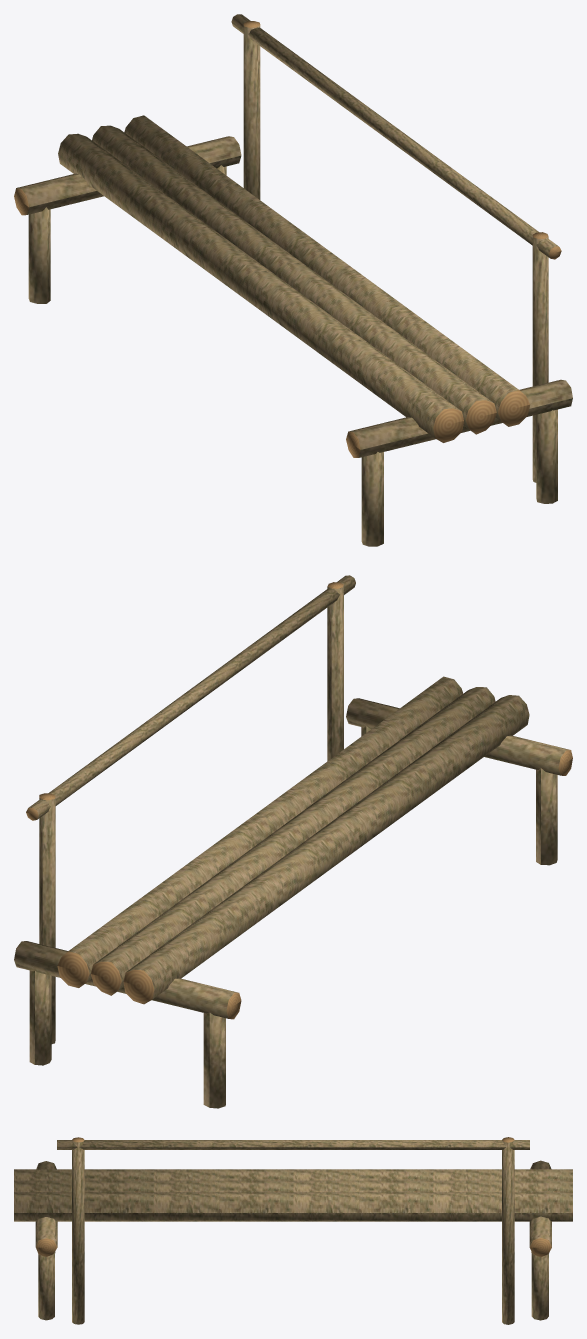
Rendered from road-bridge.glb.
3 renders of one model, top to bottom at view 1: azimuth 30°, elevation 25°; view 2: azimuth 150°, elevation 25°; view 3: azimuth 270°, elevation 25°, orthographic. The views are drawn at different scales.
Visible parts, largest first — view 1: road-bridge; view 2: road-bridge; view 3: road-bridge.
Boxes of the visible parts, box(x1,y1,x2,y2) form: road-bridge: box(14, 14, 572, 546); road-bridge: box(14, 575, 572, 1108); road-bridge: box(14, 1137, 572, 1324).
Size of the model in its own units: 1.73 by 1.87 by 5.2.
1 material, 1 textured.
